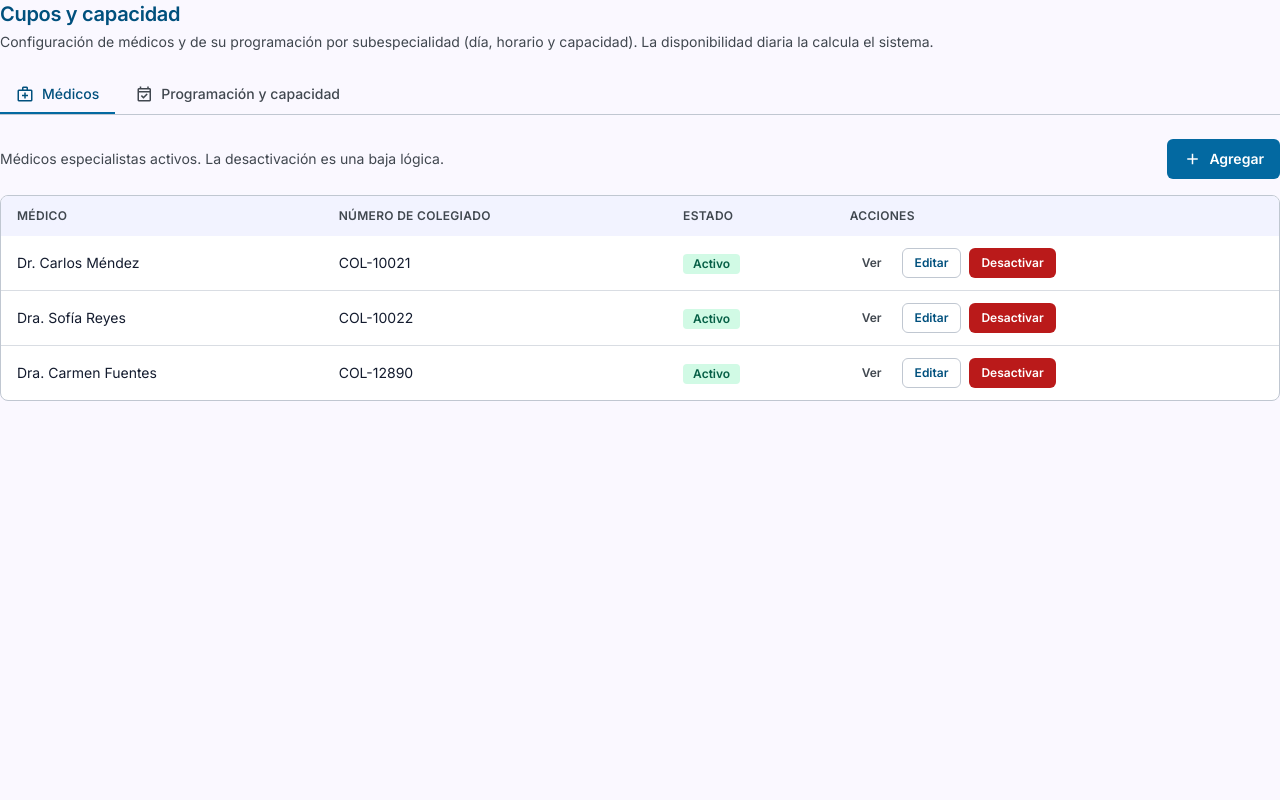
Scenario: CuposPage › crea un médico y lo muestra en el listado
Click the button "Agregar".
click(1224, 159)  # box [1167,139,1279,179]
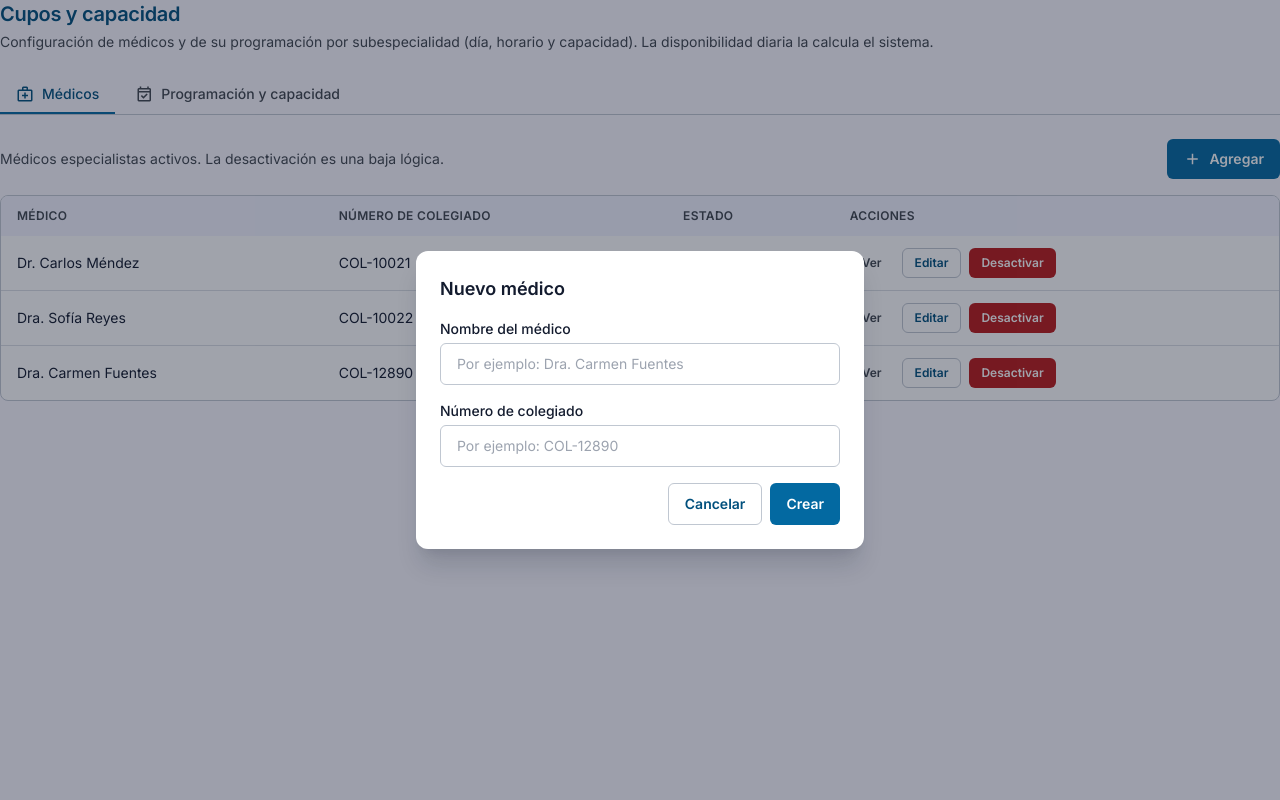
Type "Dr. Andrés Lima" into the field labelled "Nombre del médico".
click(640, 364); type("Dr. Andrés Lima")  # box [440,343,840,385]
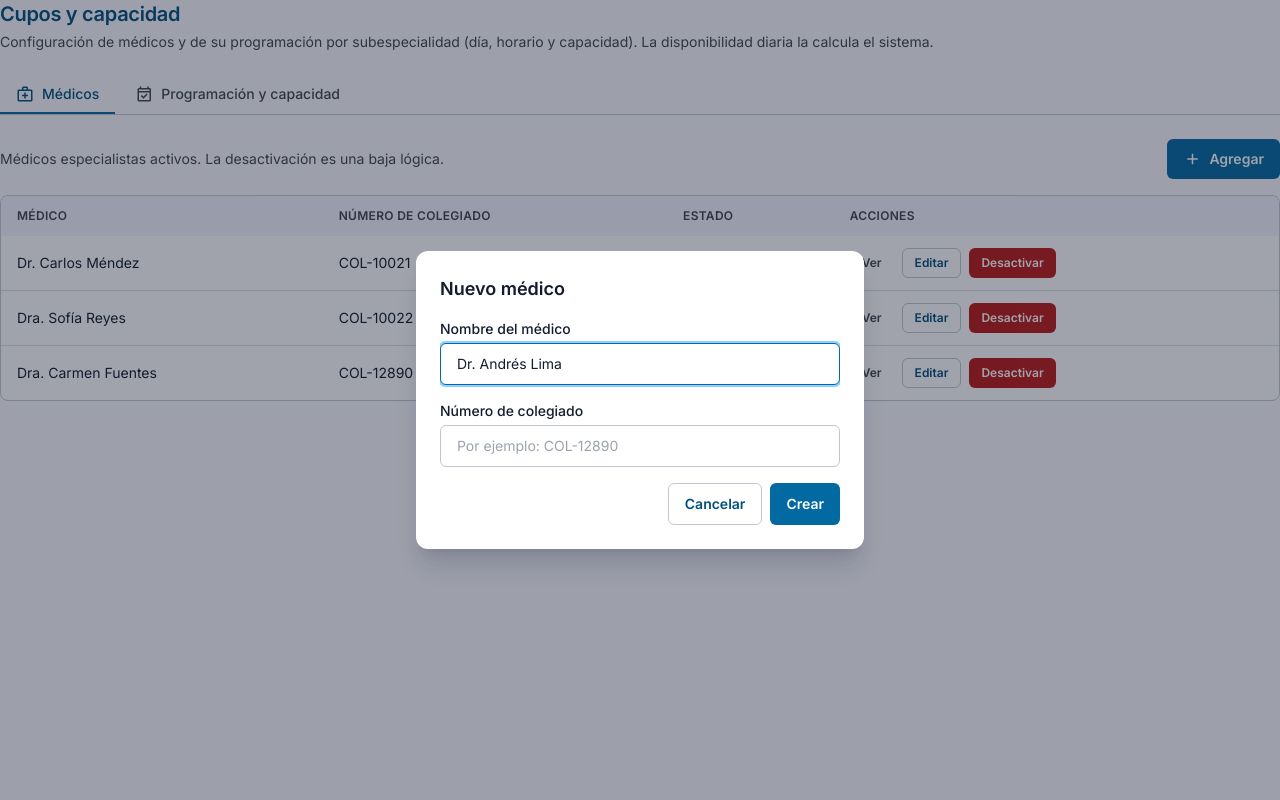
Type "COL-50001" into the field labelled "Número de colegiado".
click(640, 446); type("COL-50001")  # box [440,425,840,467]
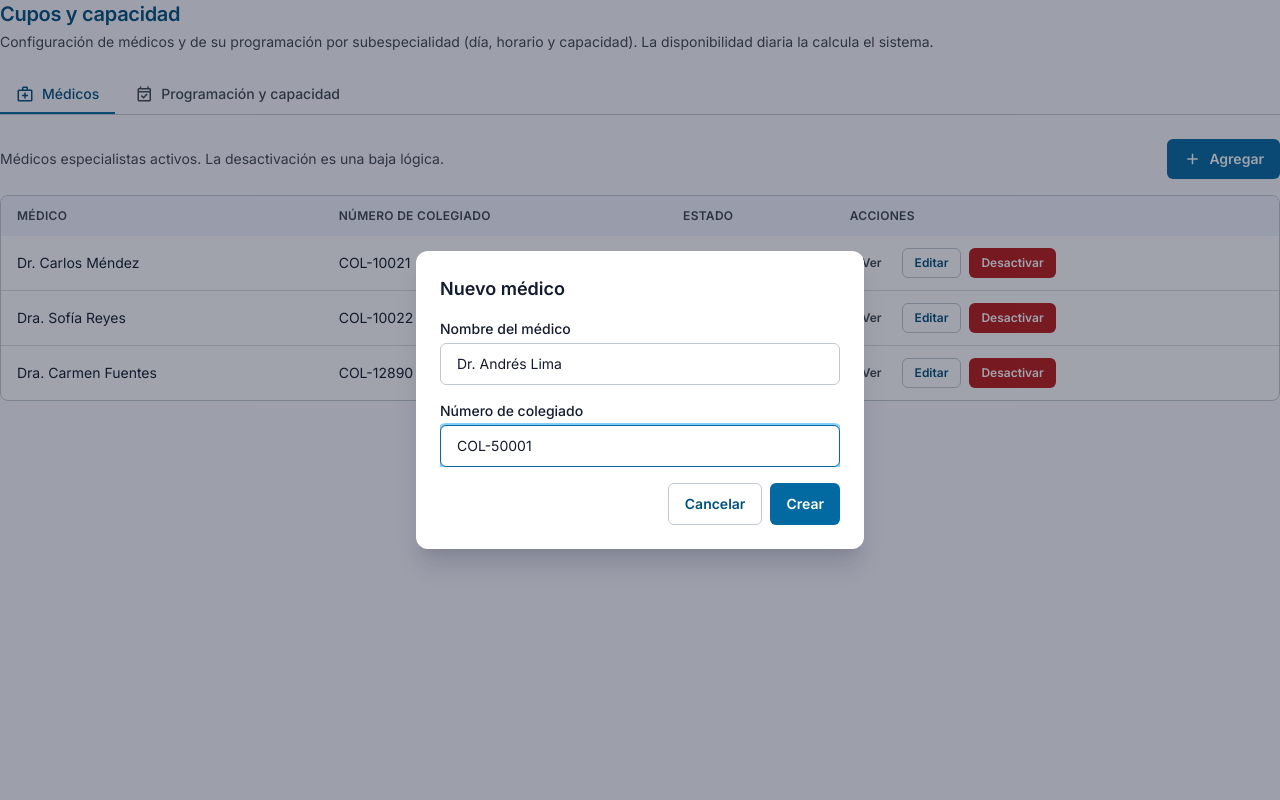
Click the button "Crear".
click(805, 504)  # box [770,483,840,525]
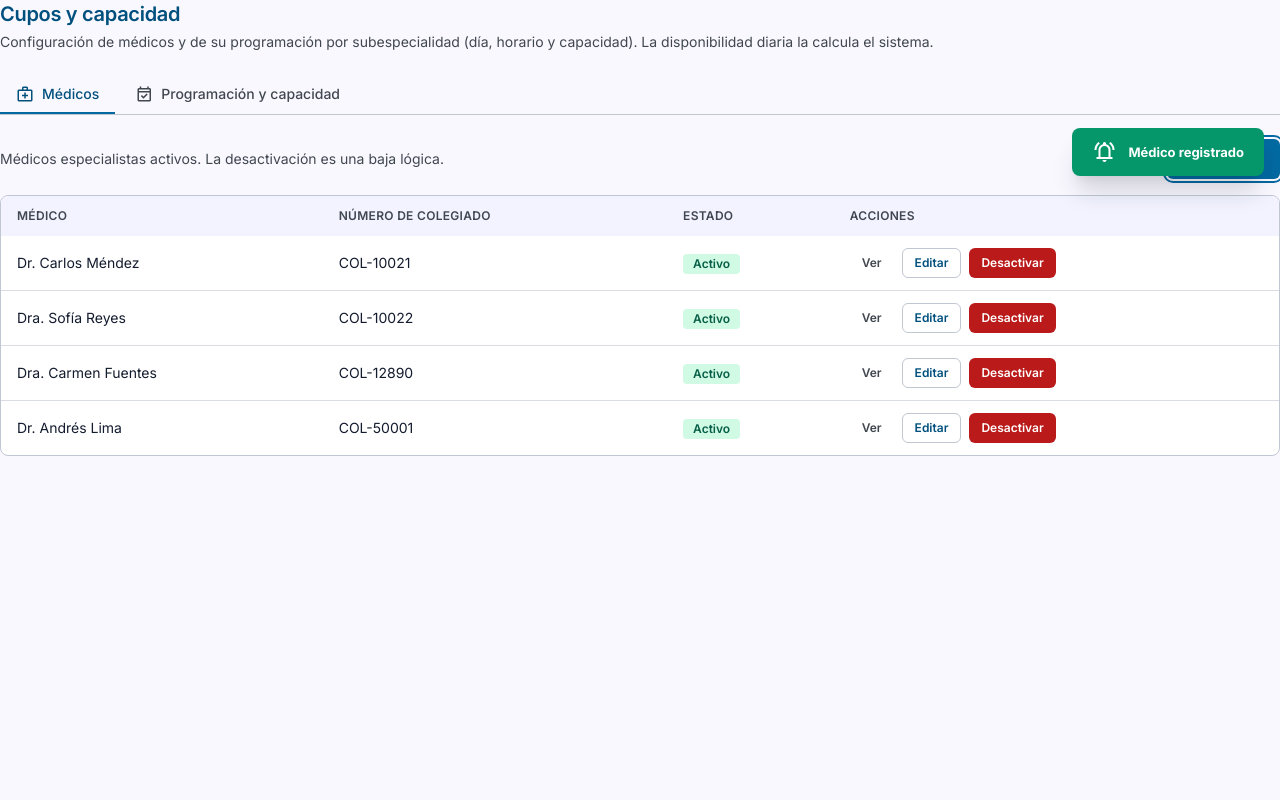
Expected: the text "Médico registrado" is shown, [1128,143,1244,161]
Expected: the text "Dr. Andrés Lima" is shown, [1,400,323,455]
